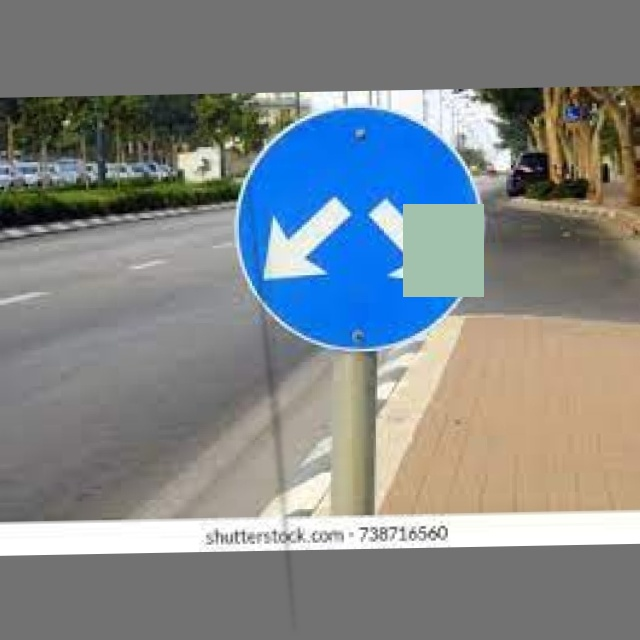Pass_Either_Side: (231, 102, 489, 354)
